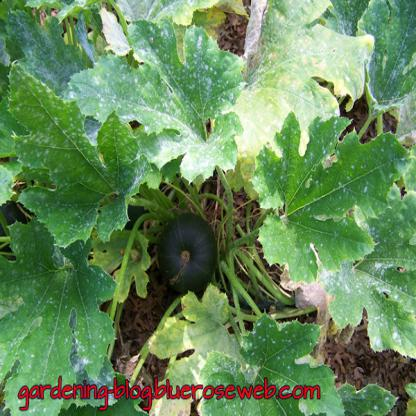squash powdery mildew leaf: (66, 18, 242, 184), (249, 120, 413, 275), (10, 56, 146, 240), (1, 221, 117, 415), (240, 1, 375, 158), (192, 315, 352, 415), (330, 187, 415, 352)
